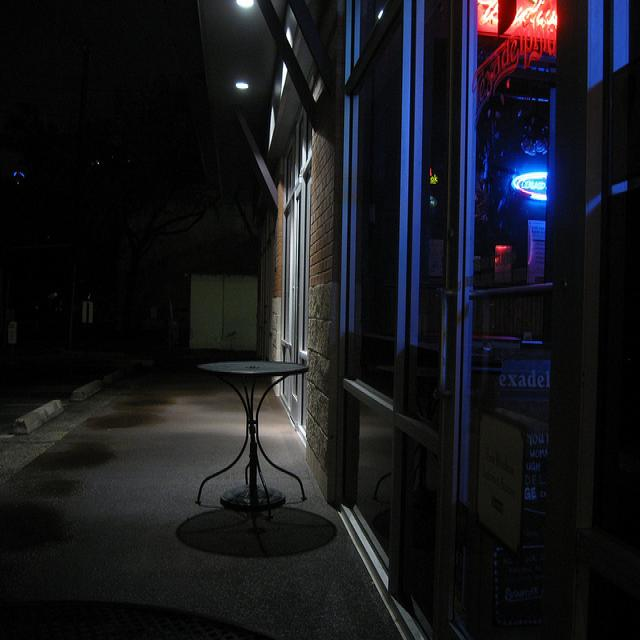Table: (186, 327, 317, 547)
